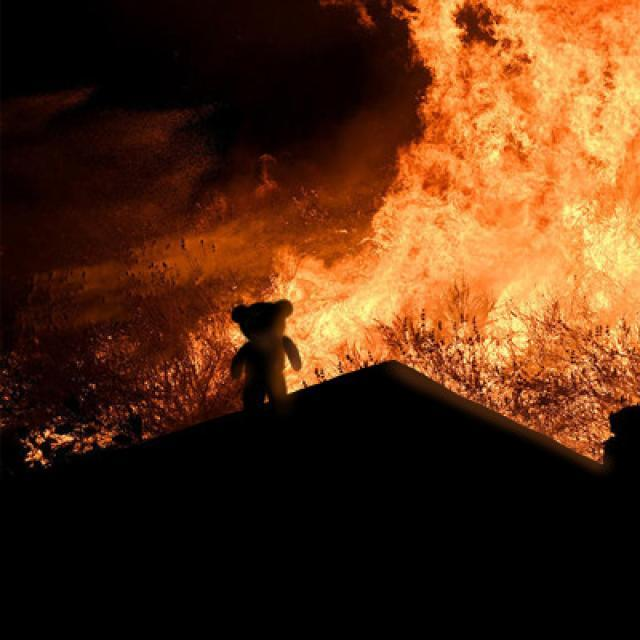Fire: (297, 200, 637, 483), (307, 0, 640, 197)
Smoke: (0, 93, 289, 387)
